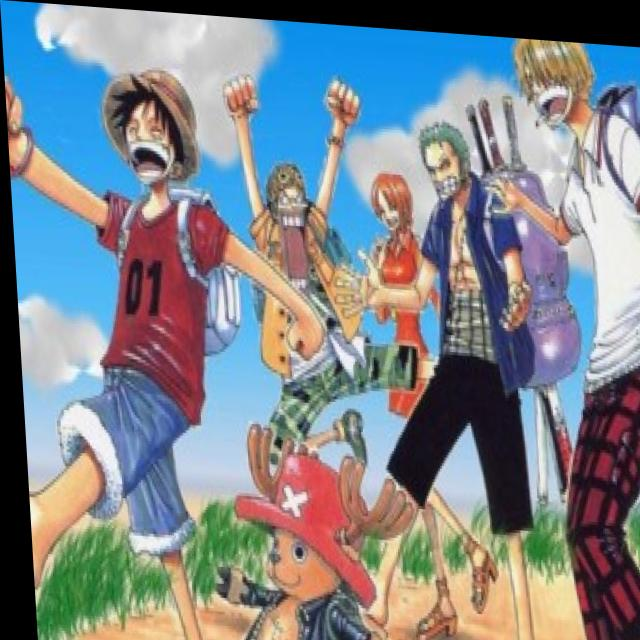Chyopa: (199, 418, 404, 640)
Luffy: (92, 49, 208, 201)
Nami: (361, 155, 416, 244)
Sangdi: (510, 30, 606, 133)
Usopp: (253, 136, 328, 301)
Zoro: (413, 110, 480, 199)
